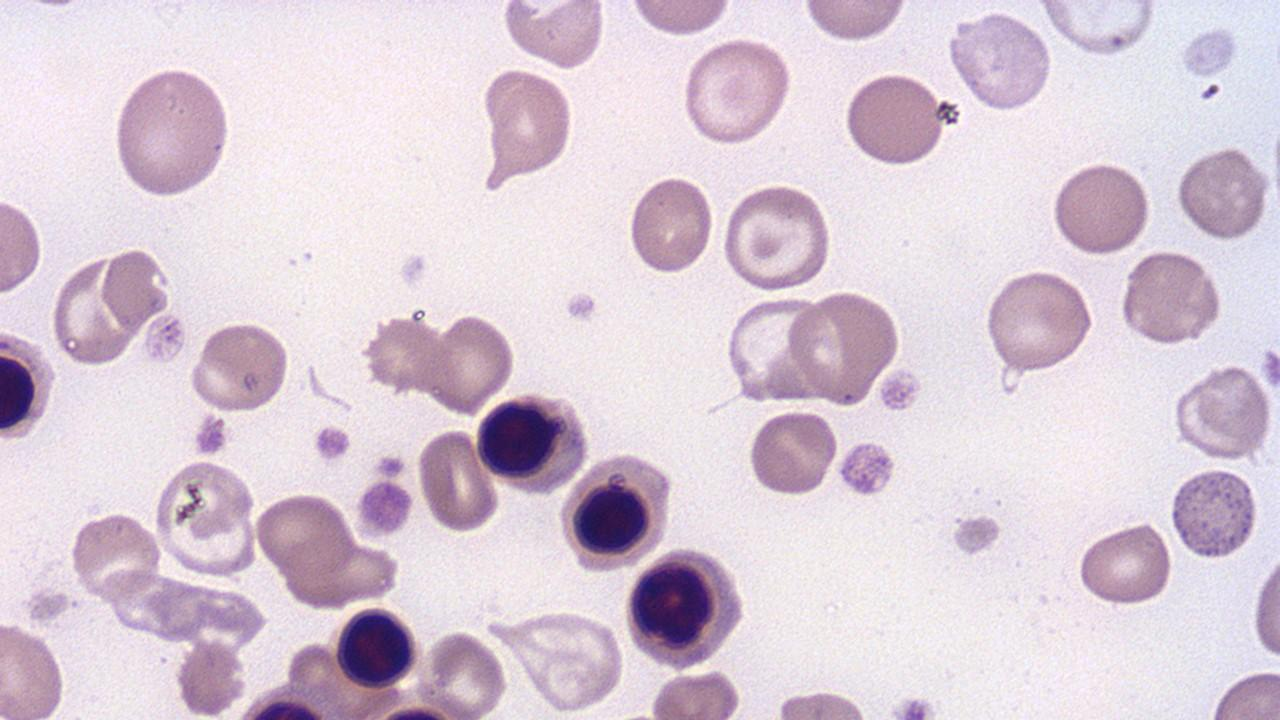Platelets: (354, 478, 414, 542), (835, 440, 897, 500), (946, 512, 1006, 558), (192, 411, 228, 459), (311, 423, 353, 462), (886, 690, 939, 720), (396, 250, 432, 290), (562, 288, 601, 324), (1258, 342, 1280, 396), (372, 452, 408, 480)
RBC: (110, 61, 233, 202), (786, 288, 904, 404), (151, 454, 257, 578), (679, 34, 795, 147), (720, 180, 834, 294), (477, 66, 576, 194), (982, 266, 1095, 376), (506, 609, 624, 713), (945, 7, 1058, 113), (724, 294, 830, 405), (1116, 250, 1226, 349), (842, 70, 952, 169), (51, 250, 138, 368), (1174, 363, 1276, 462), (1051, 159, 1153, 257), (625, 171, 716, 278), (1175, 143, 1273, 242), (188, 321, 293, 413), (1076, 518, 1176, 610), (416, 426, 500, 534), (428, 312, 518, 412), (67, 512, 164, 603), (746, 406, 838, 500), (1171, 464, 1259, 561), (252, 490, 357, 570), (417, 628, 509, 716), (497, 0, 607, 71), (360, 312, 446, 397), (101, 242, 175, 340), (1038, 0, 1156, 60), (0, 616, 68, 719), (175, 639, 249, 717), (644, 666, 747, 718), (0, 188, 47, 301), (801, 2, 909, 44), (626, 0, 736, 39), (1248, 544, 1280, 670), (1206, 666, 1280, 716), (1179, 23, 1241, 81)
WBC: (558, 450, 678, 574), (562, 450, 678, 574), (622, 552, 732, 668), (482, 391, 590, 494), (334, 604, 415, 690), (0, 325, 53, 443)
